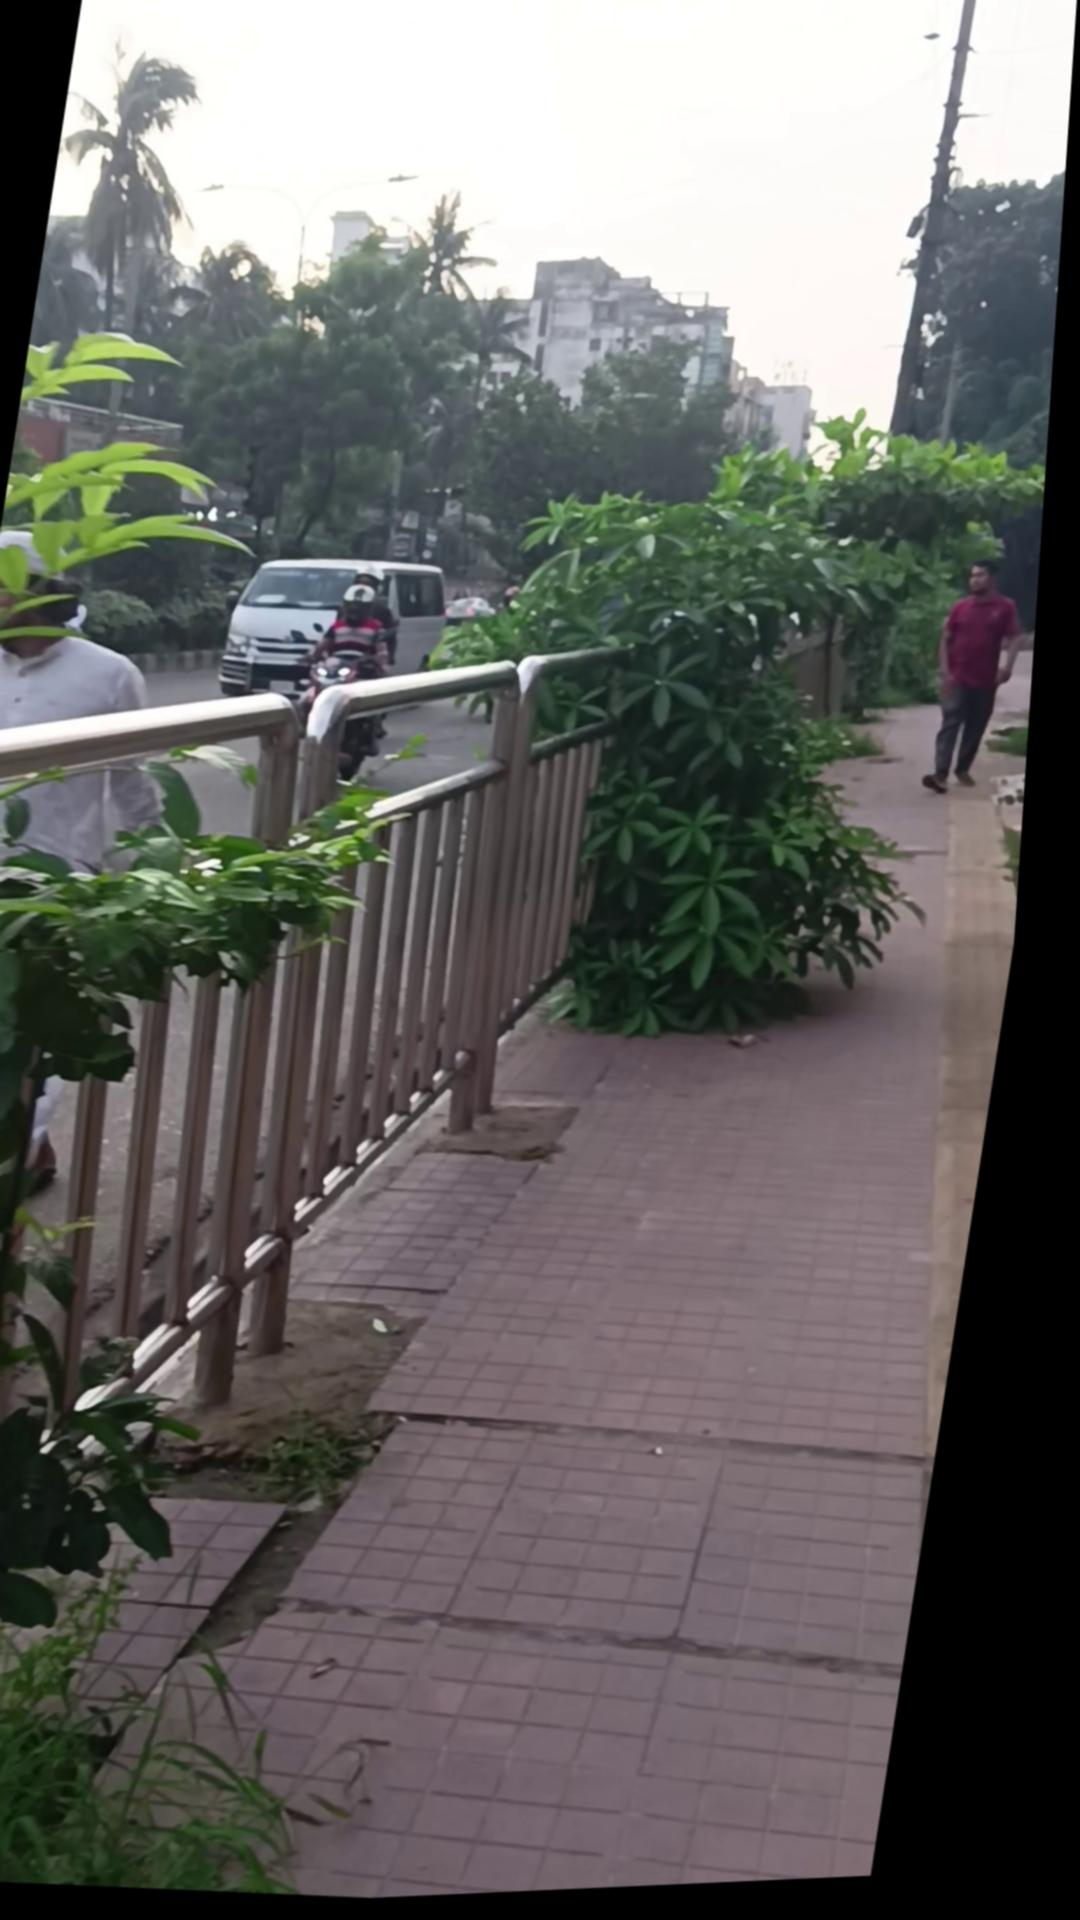Light-pole: (291, 616, 414, 791)
Muddy road: (0, 520, 218, 1209), (926, 563, 1042, 808)
Potted-plant: (0, 583, 1047, 1920)
